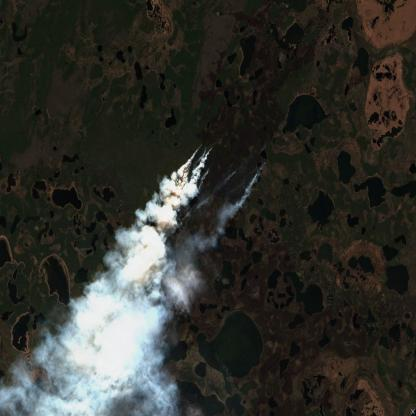fire: (149, 120, 269, 255), (248, 19, 264, 42)
